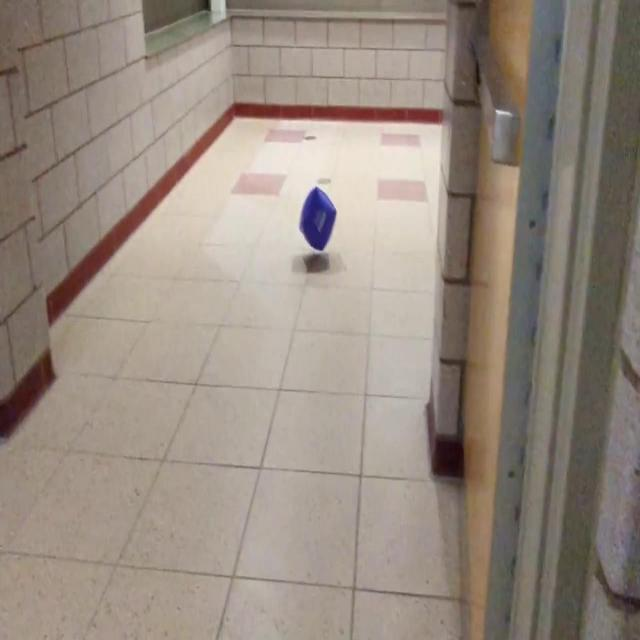frc_cube: (297, 185, 337, 251)
